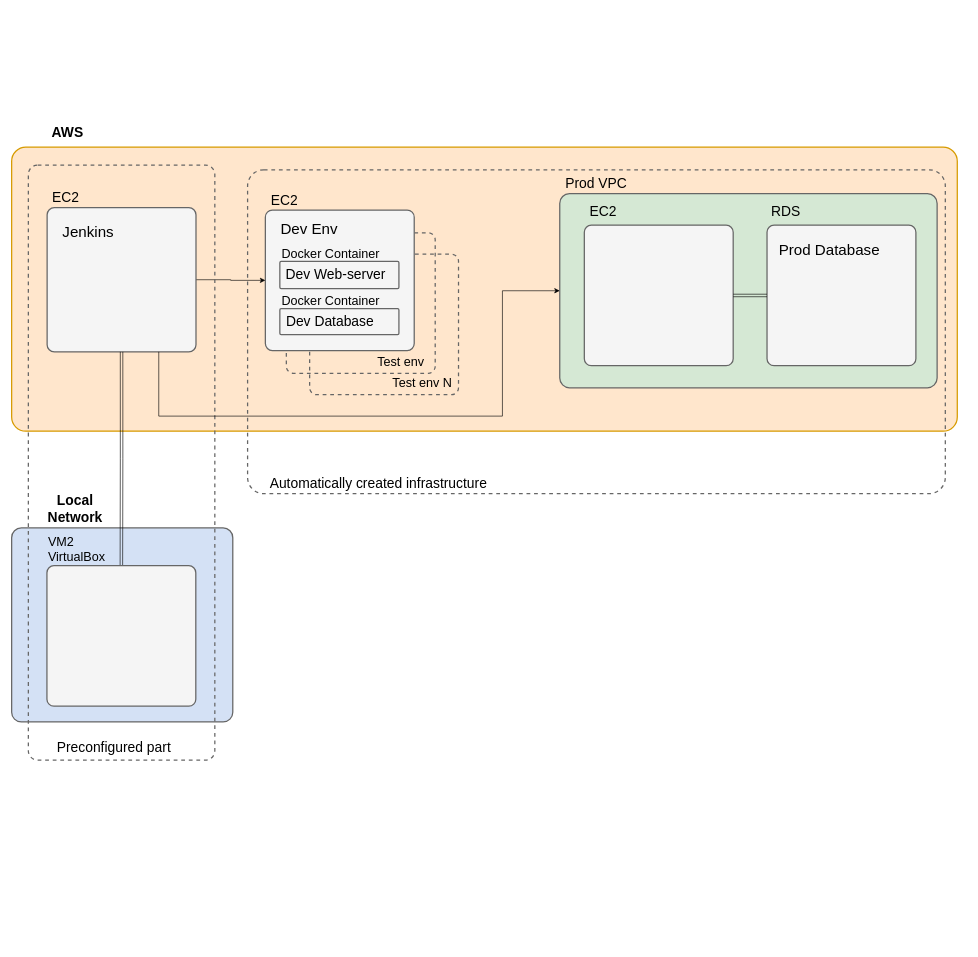
Some shapes in this 978 by 957 pixel diagram are drawn without their labels. Each missing label, with the centre of its shape:
"Jenkins Node (Build Agent)" belongs at (121,636).
"Prod App Web-server" belongs at (658,295).
